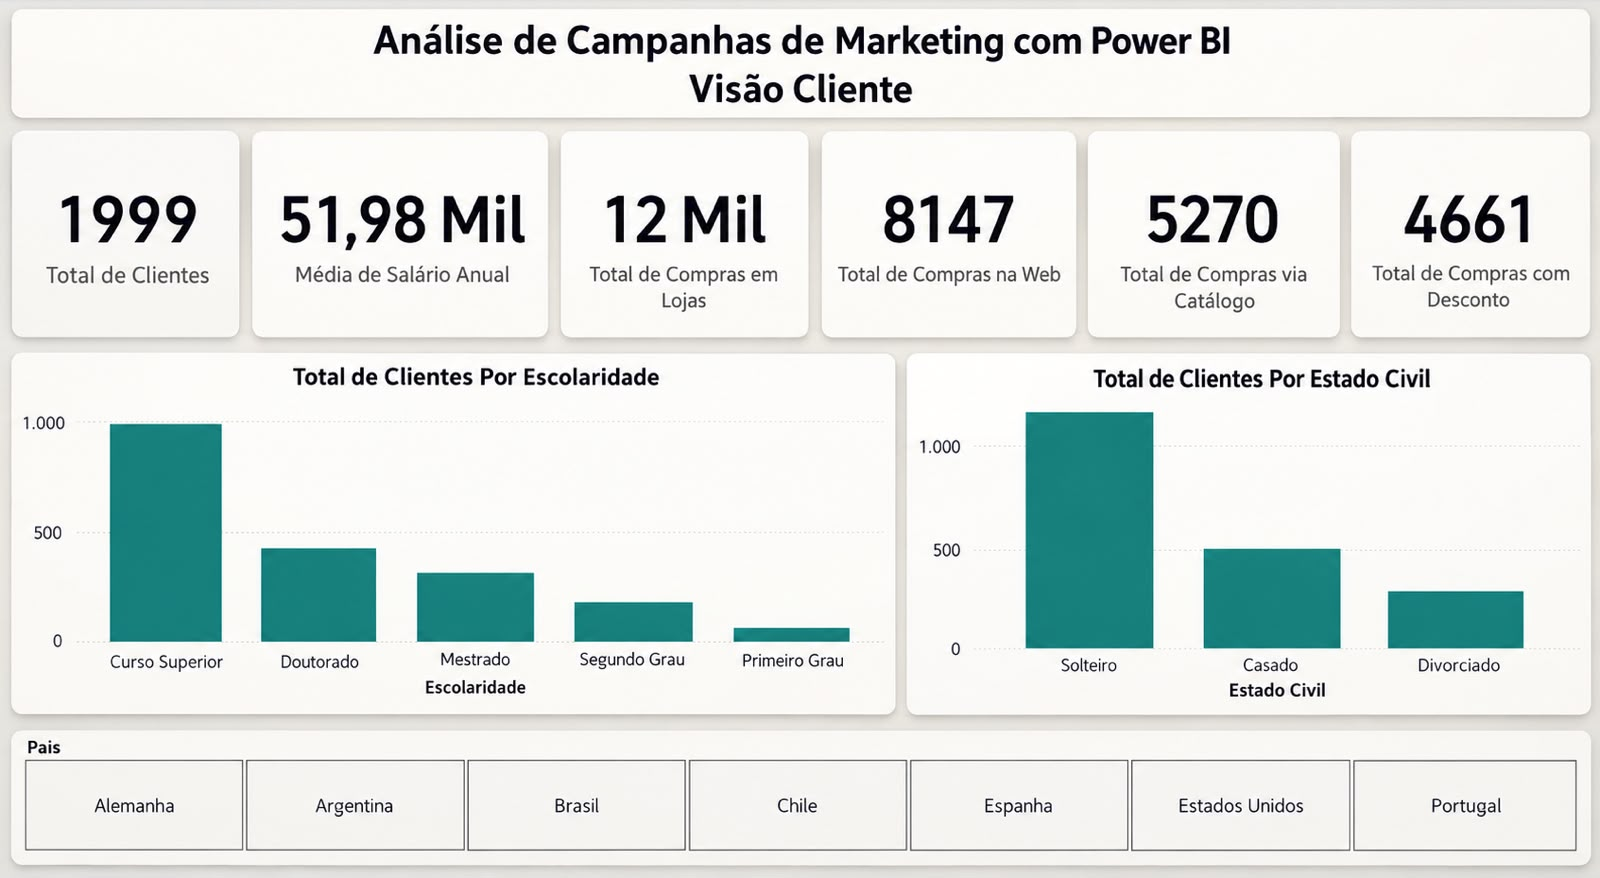

This screenshot's page, from the dashboard's own definition file:
{"tool":"powerbi","page":{"name":"Visão Cliente","canvas":[1280,720],"ordinal":0},"visuals":[{"type":"card","fields":{"Values":["CountNonNull(DadosMarketing.ID)"]},"box":[0,99,203.4,189.8],"z":0},{"type":"card","fields":{"Values":["Avg(DadosMarketing.Salario Anual)"]},"box":[215.6,99,248.1,188.5],"z":1000},{"type":"card","fields":{"Values":["Sum(DadosMarketing.Numero de Compras na Loja)"]},"box":[475.6,98.5,192.4,189.3],"z":2000},{"type":"card","fields":{"Values":["Sum(DadosMarketing.Numero de Compras na Web)"]},"box":[681.7,100,200,187.8],"z":3000},{"type":"card","fields":{"Values":["Sum(DadosMarketing.Numero de Compras com Desconto)"]},"box":[1080.7,99,189.8,188.5],"z":4000},{"type":"card","fields":{"Values":["Sum(DadosMarketing.Numero de Compras via Catalogo)"]},"box":[892.2,99,179,189.8],"z":5000},{"type":"textbox","box":[0,0,1271.9,88.1],"z":6000},{"type":"clusteredColumnChart","title":"Total de Clientes Por Escolaridade","fields":{"Category":["DadosMarketing.Escolaridade"],"Y":["CountNonNull(DadosMarketing.ID)"]},"box":[0,304.5,718,272.7],"z":7000},{"type":"clusteredColumnChart","title":"Total de Clientes Por Estado Civil","fields":{"Category":["DadosMarketing.Estado Civil"],"Y":["CountNonNull(DadosMarketing.ID)"]},"box":[733.2,304.5,539.3,272.7],"z":8000},{"type":"slicer","fields":{"Values":["DadosMarketing.Pais"]},"box":[0,593.9,1271.9,104.4],"z":9000}]}

Visuals, with their boxes in screenshot pixels (x1, y1, x2, y2), scaled from the page's 1280x720 canvas onto the 1600x878 screenshot:
card - CountNonNull(DadosMarketing.ID): crop(0, 121, 254, 352)
card - Avg(DadosMarketing.Salario Anual): crop(270, 121, 580, 351)
card - Sum(DadosMarketing.Numero de Compras na Loja): crop(594, 120, 835, 351)
card - Sum(DadosMarketing.Numero de Compras na Web): crop(852, 122, 1102, 351)
card - Sum(DadosMarketing.Numero de Compras com Desconto): crop(1351, 121, 1588, 351)
card - Sum(DadosMarketing.Numero de Compras via Catalogo): crop(1115, 121, 1339, 352)
textbox: crop(0, 0, 1590, 107)
"Total de Clientes Por Escolaridade" clusteredColumnChart: crop(0, 371, 898, 704)
"Total de Clientes Por Estado Civil" clusteredColumnChart: crop(916, 371, 1591, 704)
slicer - DadosMarketing.Pais: crop(0, 724, 1590, 852)
